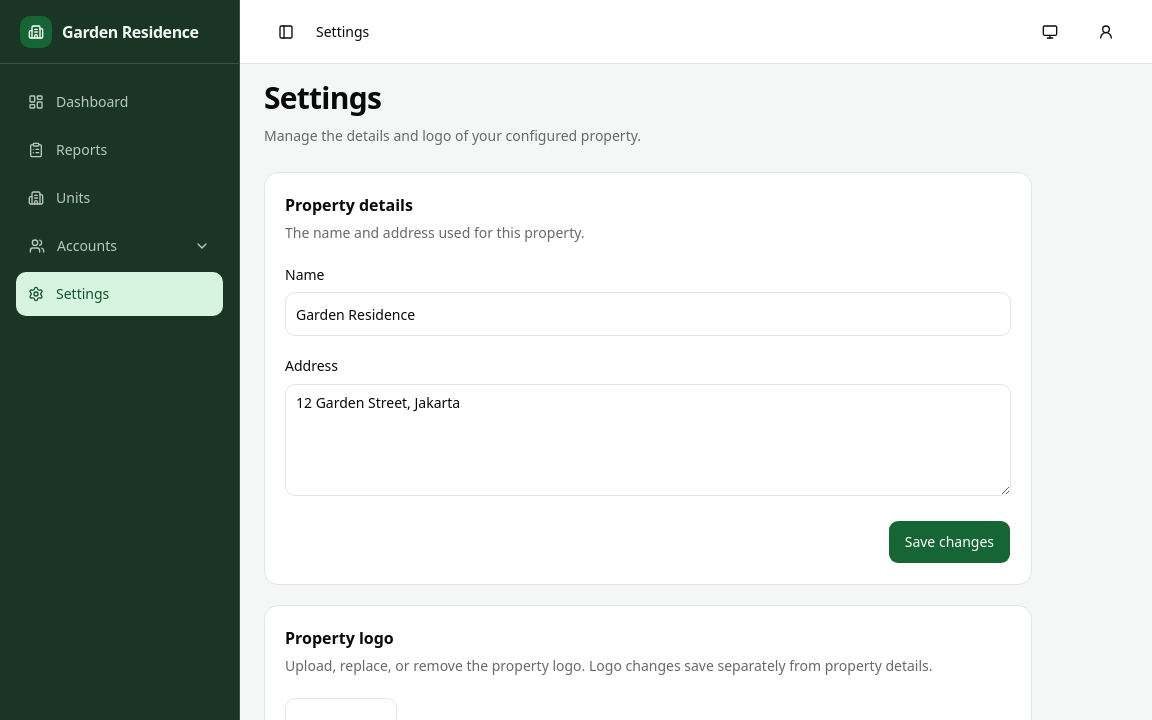
Scenario: shows a submit failure toast, retains input, and allows retry
Replace the text in the field labelled "Name" with "Draft name" at coordinates (648, 314), box [285, 292, 1011, 336]
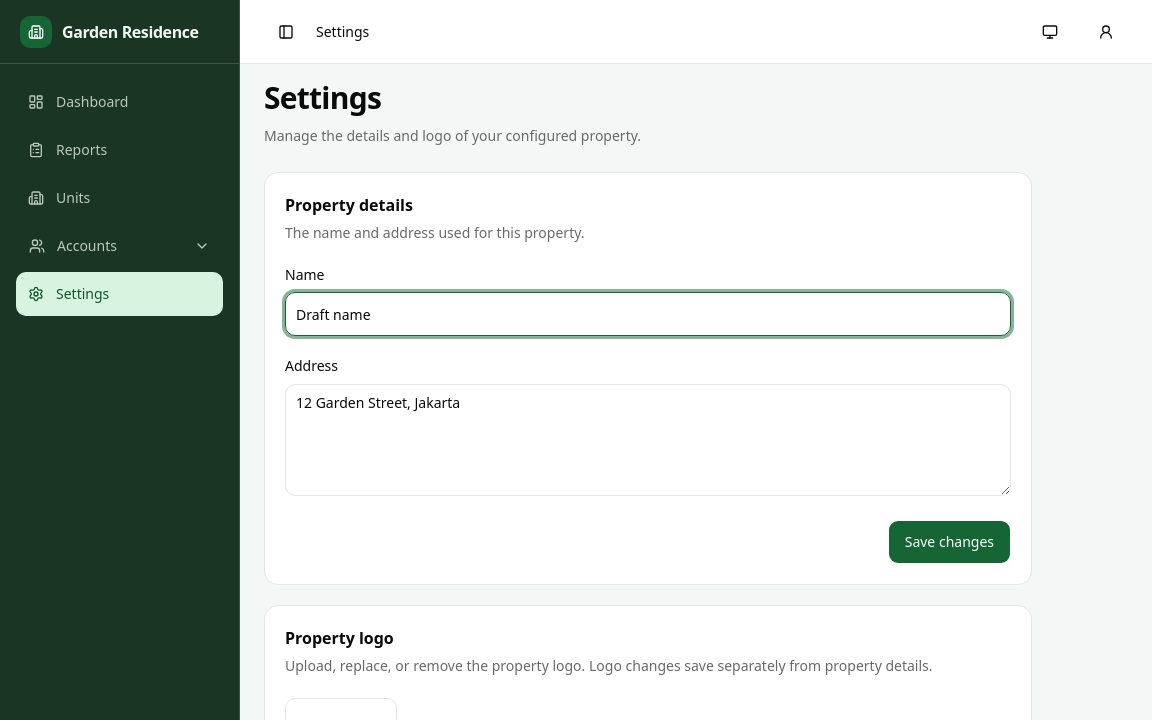
Click the button "Save changes" at coordinates (949, 542), box [888, 520, 1011, 564]
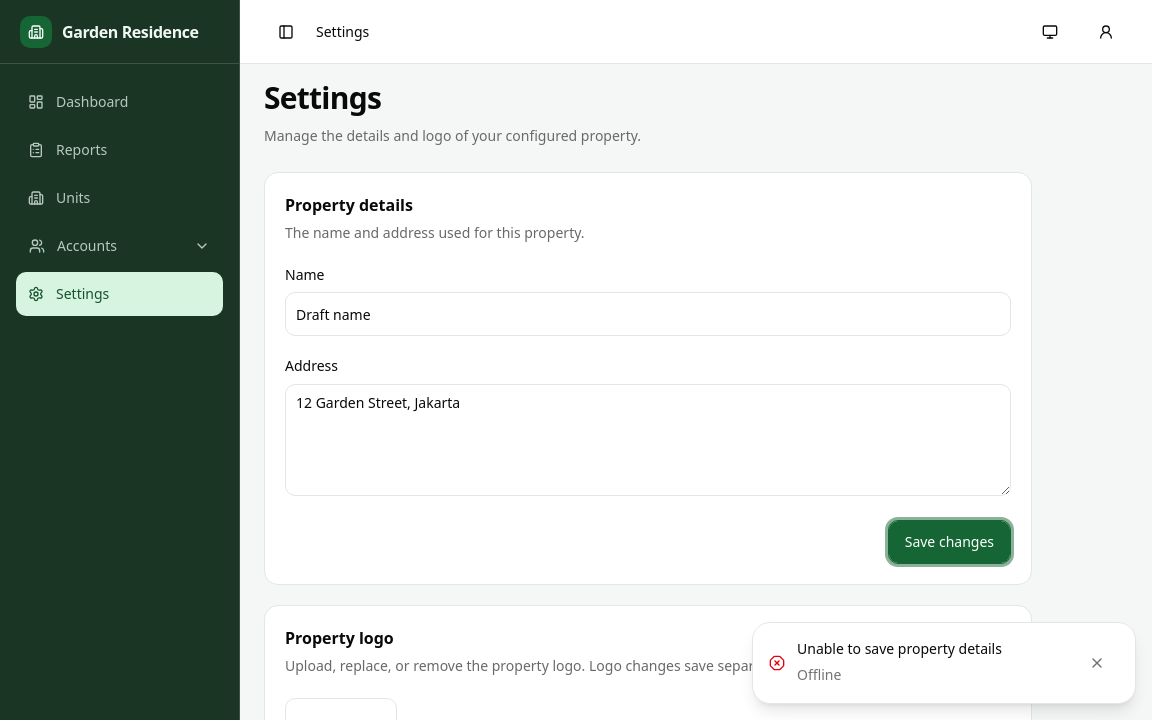
Expected: the heading "Unable to save property details" is shown, [797, 639, 1002, 658]
Expected: the text "Offline" is shown, [797, 665, 841, 684]
Click the button "Save changes" at coordinates (949, 542), box [888, 520, 1011, 564]
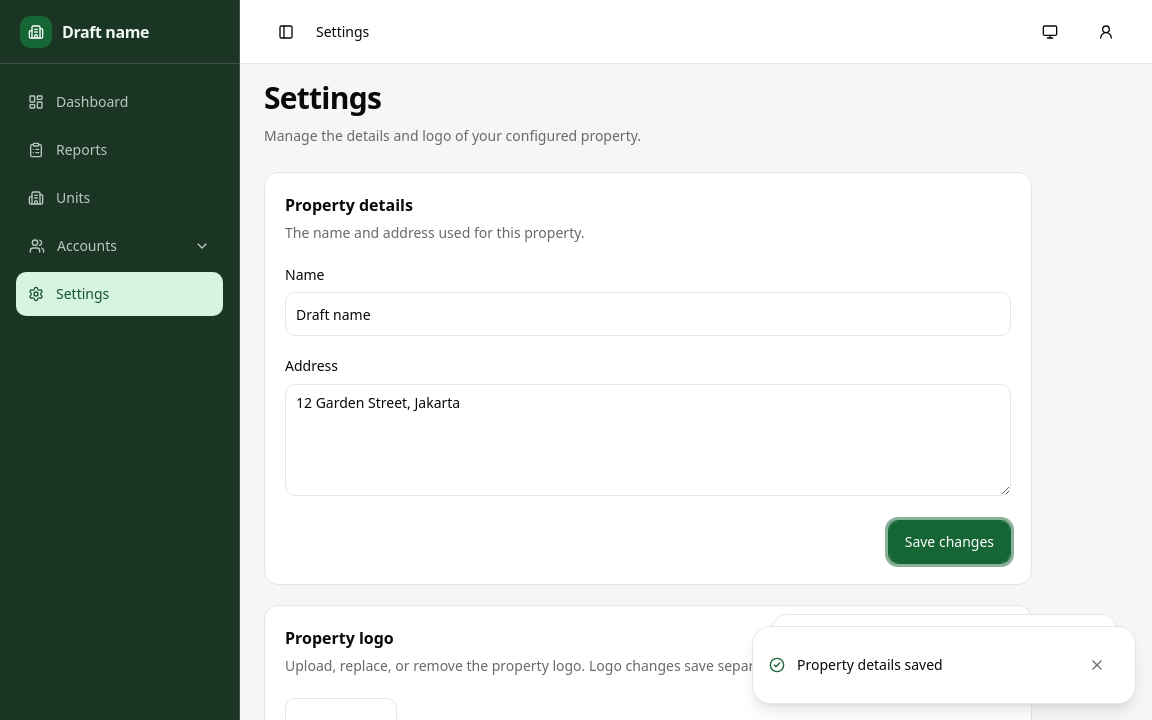
Expected: the heading "Property details saved" is shown, [797, 655, 943, 674]
